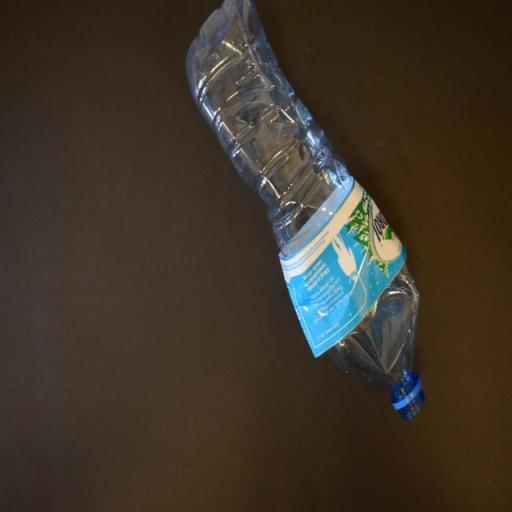plastic: (186, 0, 424, 425)
